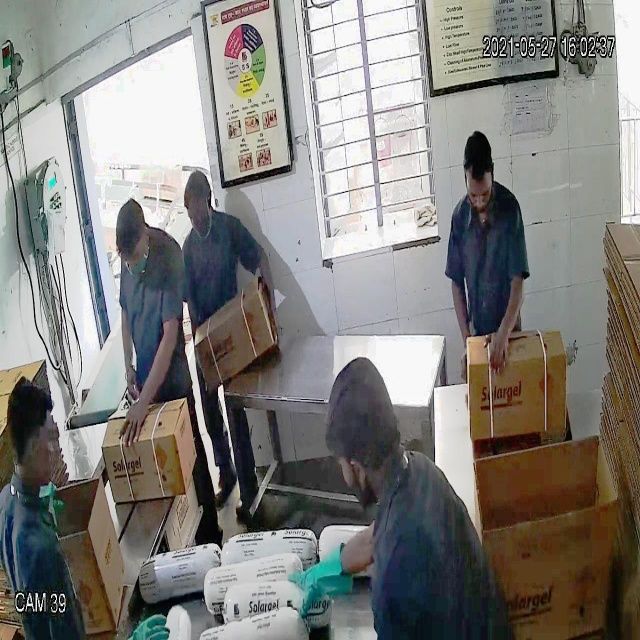Sin_gafas: (462, 178, 498, 206)
